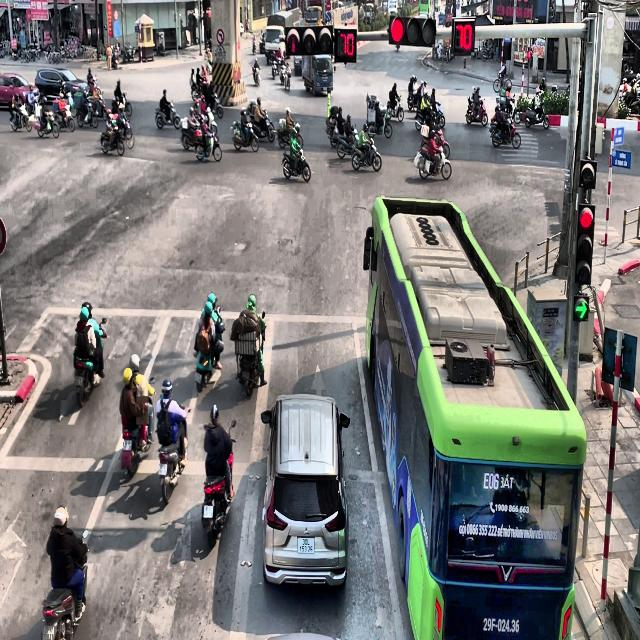lisence_plate: (481, 615, 521, 634), (296, 535, 315, 555)
